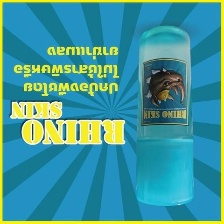insecticide: (129, 20, 200, 207)
